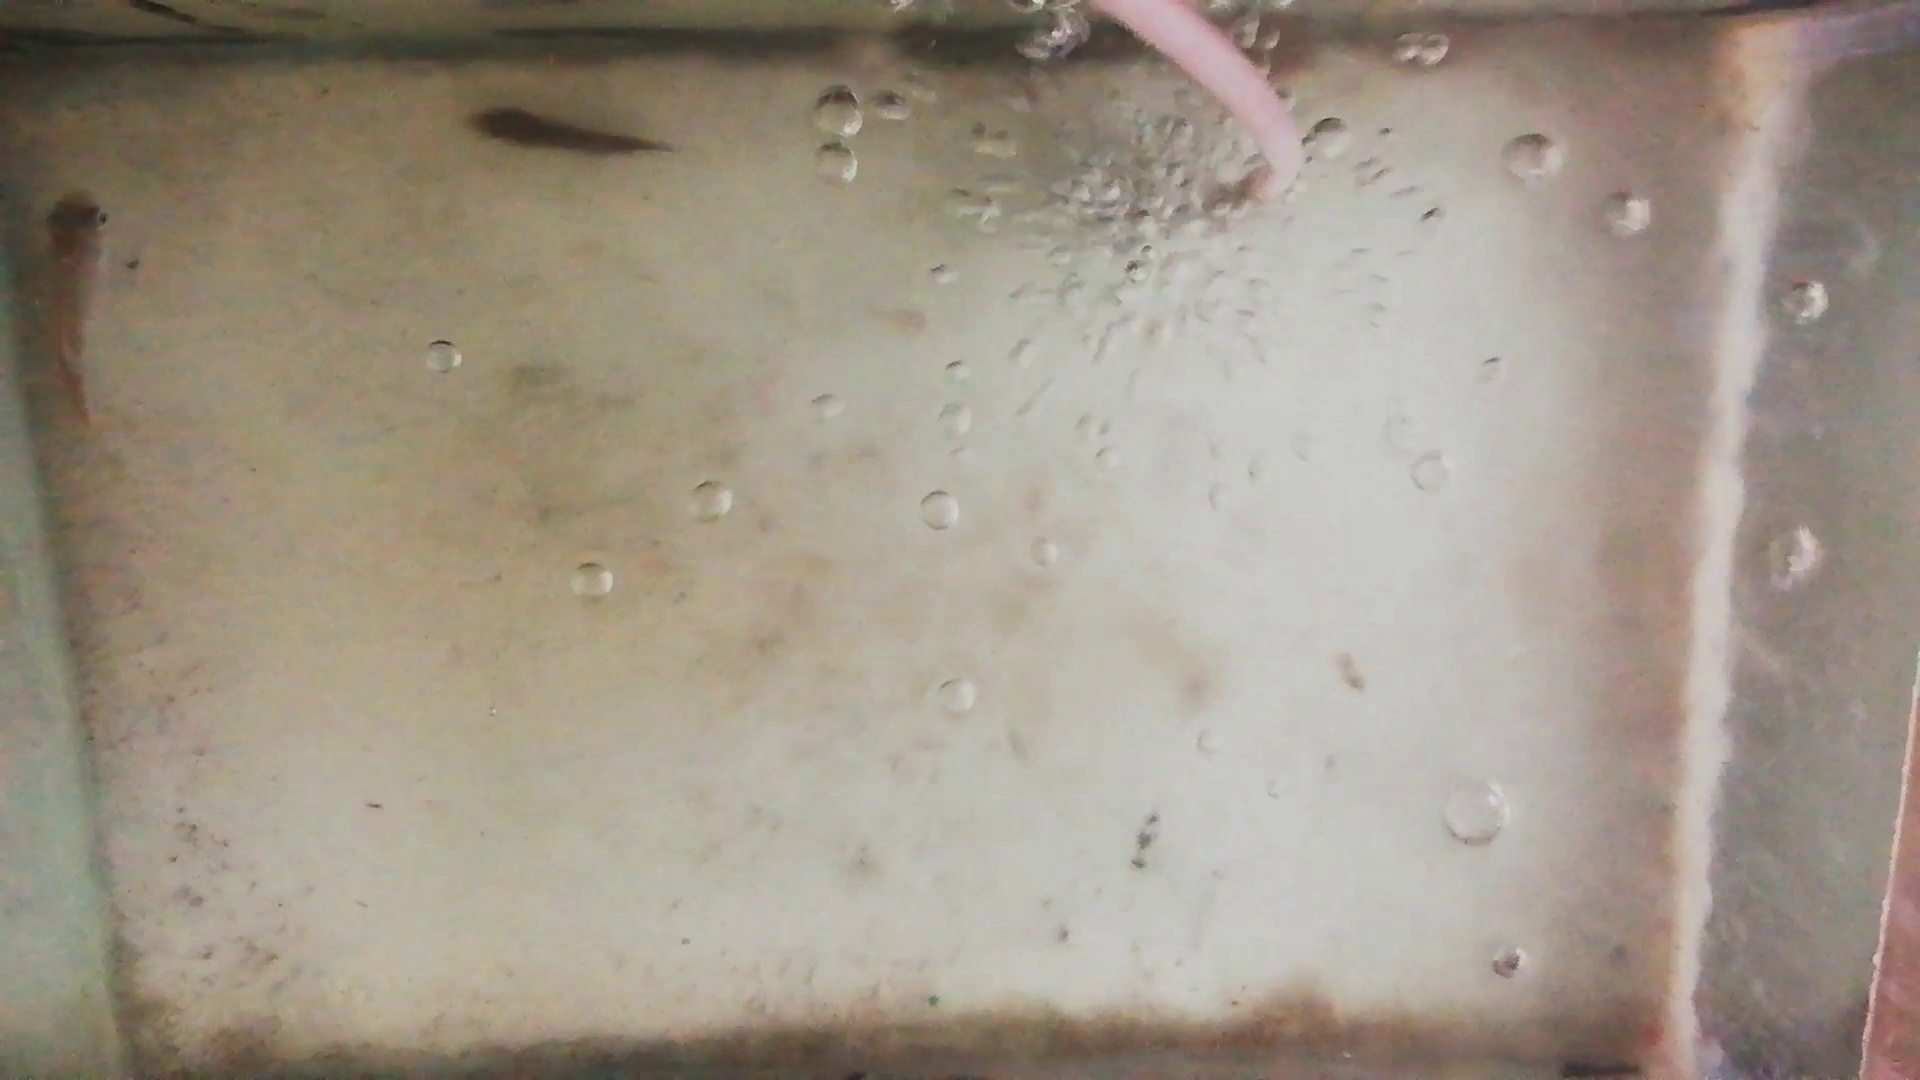fish: (42, 187, 107, 429), (462, 103, 665, 157)
